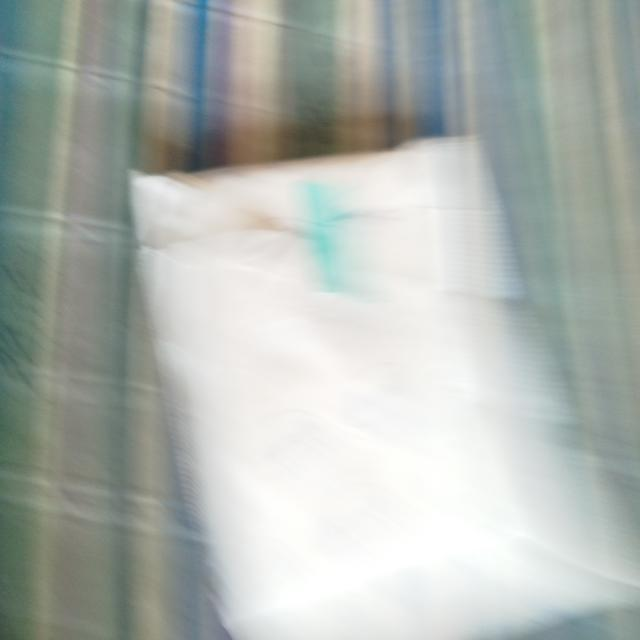residual: (109, 109, 629, 640)
